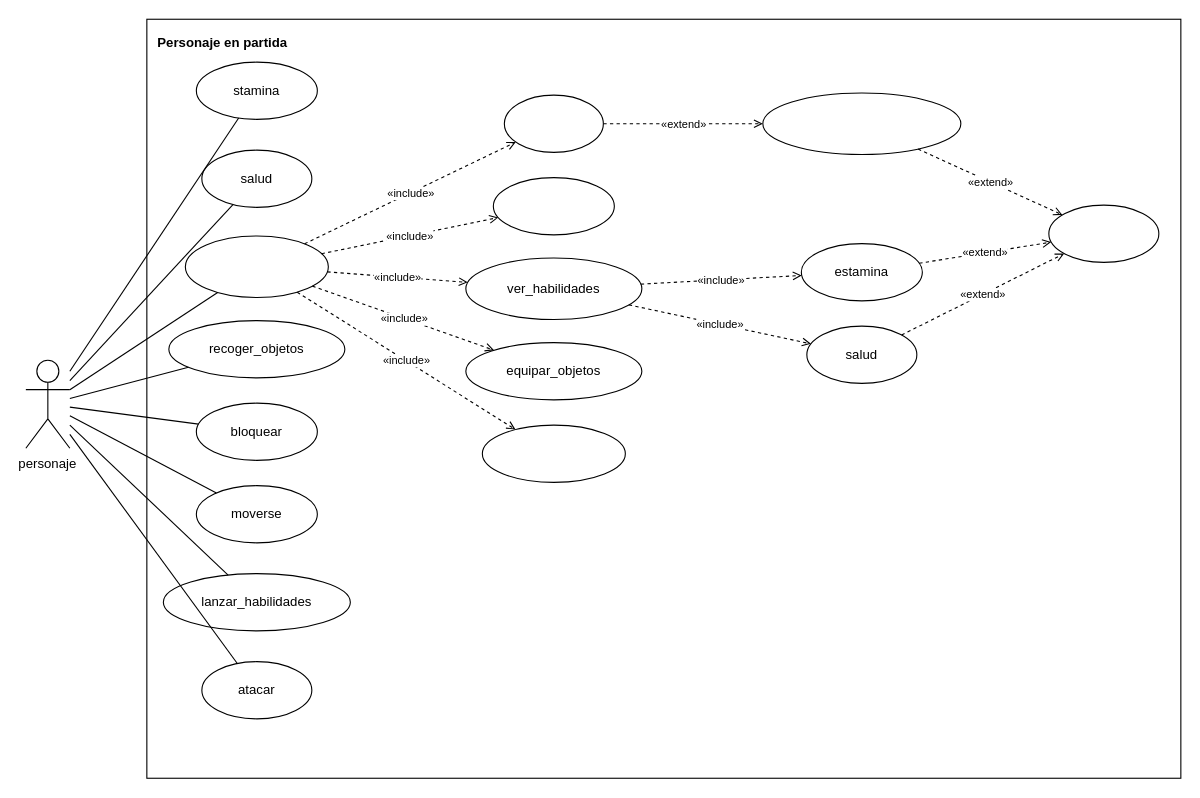
The diagram is 1200 pixels wide and 798 high, and some of its shapes have lost their labels. The shapes that lost their labels are listed below. From the top down, each one's centre as x and y in pixels, then its label:
point 553,123: XP
point 861,123: mejorar_habilidades
point 553,206: objetos
point 1103,233: mejorar
point 256,266: inventario
point 553,453: basurerro
